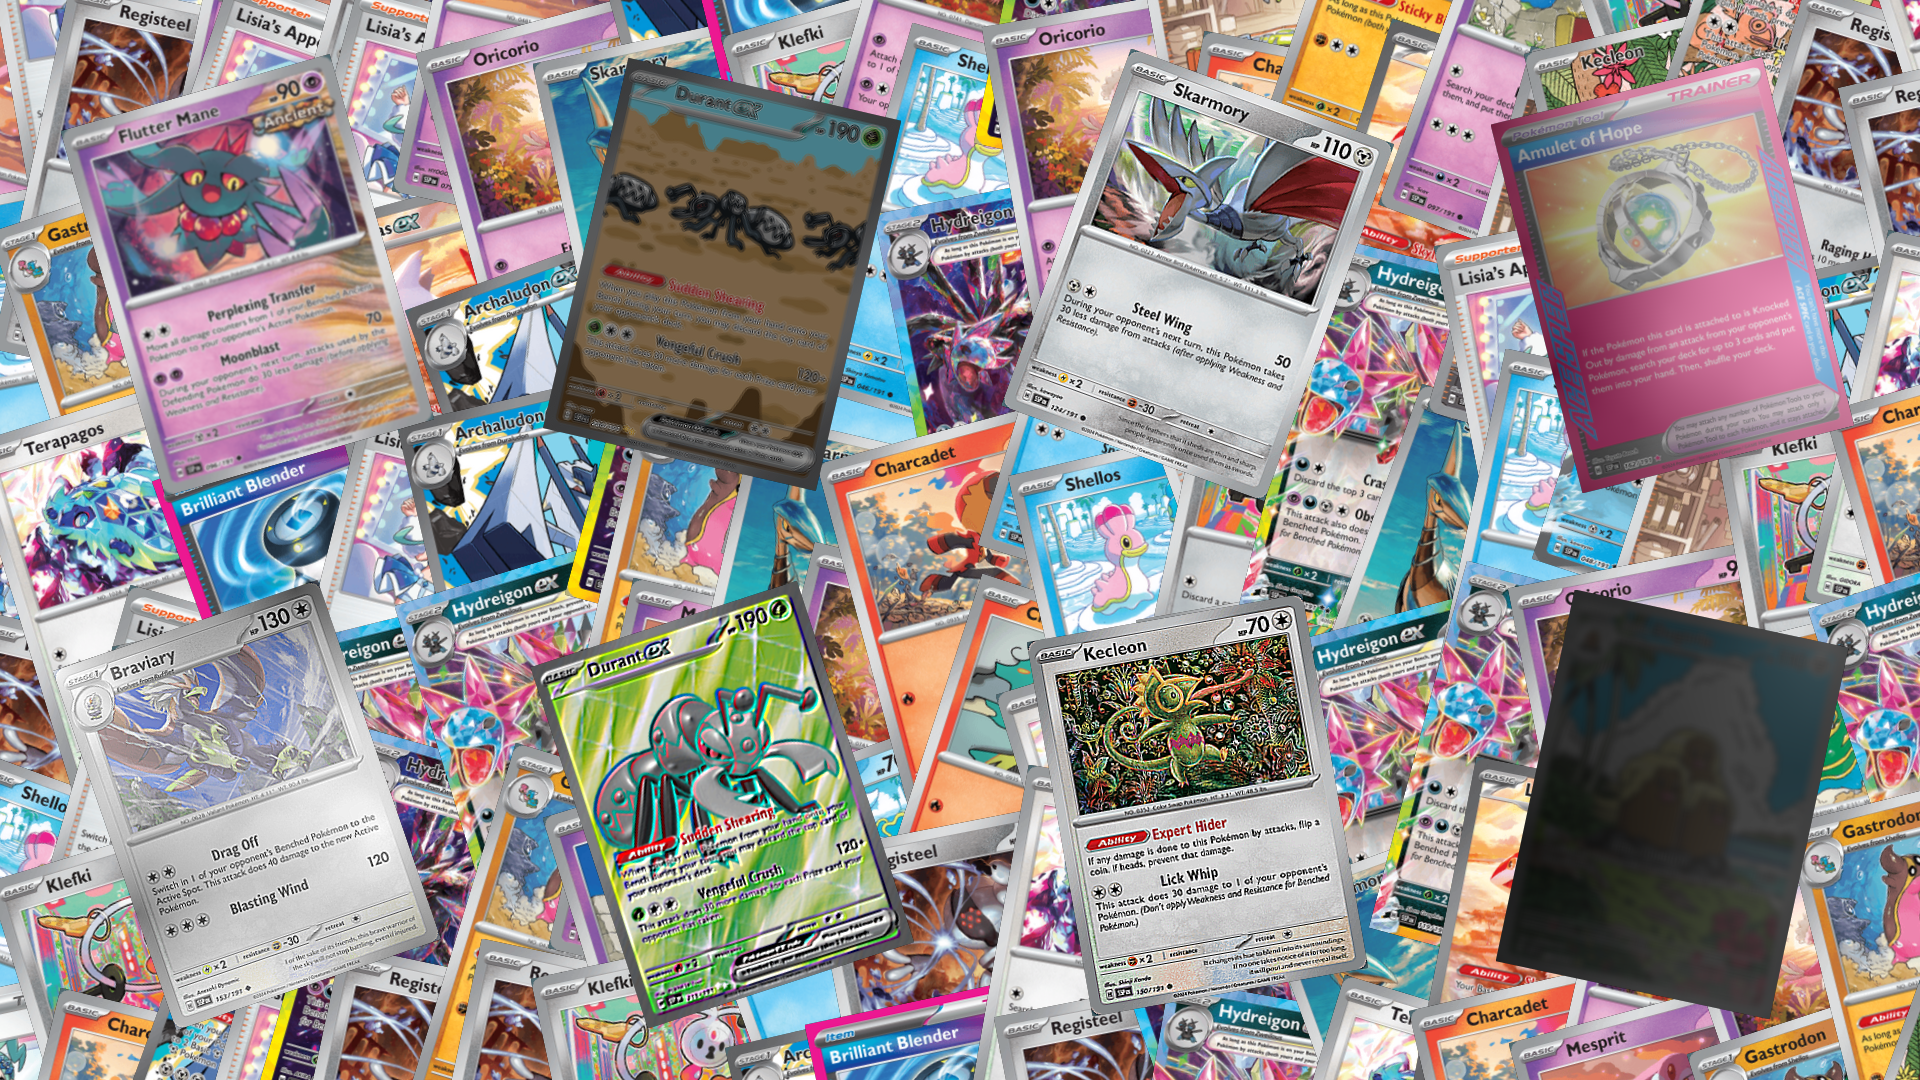Alolan_Dugtrio: (1495, 589, 1847, 1019)
Amulet_of_Hope: (1490, 55, 1854, 493)
Braviary: (51, 579, 440, 1030)
Durant_ex: (530, 580, 914, 1029), (542, 57, 901, 491)
Flutter_Mane: (61, 53, 434, 496)
Kecleon: (1026, 593, 1367, 1015)
Skarmory: (1000, 47, 1394, 501)
